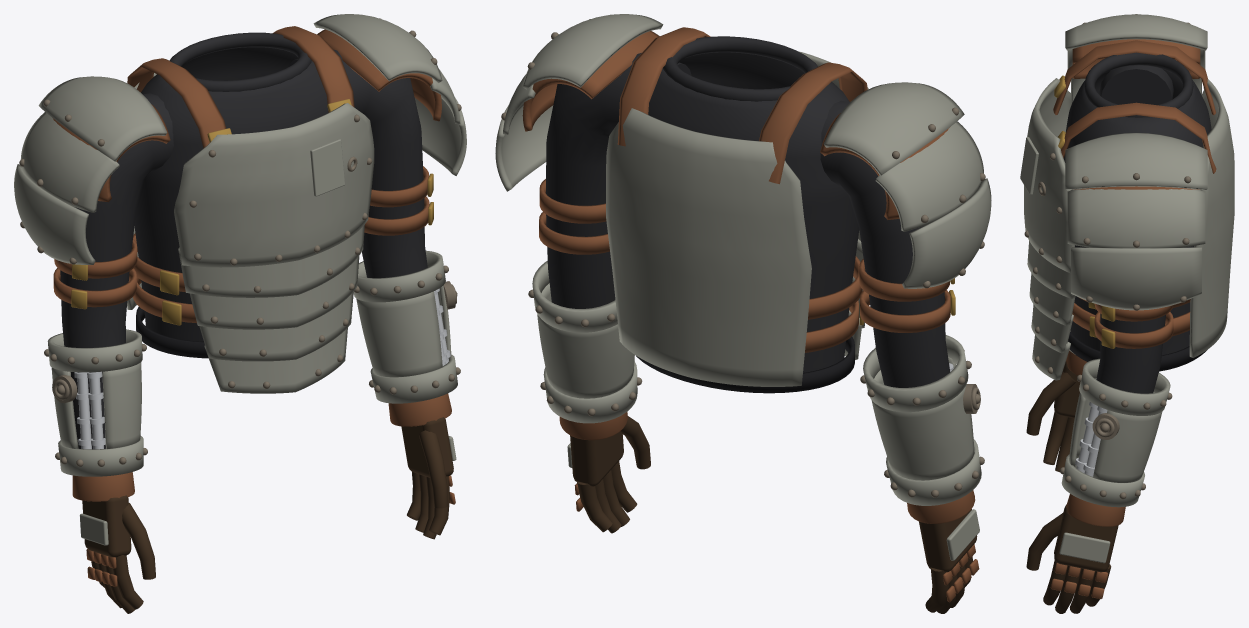
3 renders of one model, left to right at view 1: azimuth 30°, elevation 25°; view 2: azimuth 150°, elevation 25°; view 3: azimuth 270°, elevation 25°, orthographic. The views are drawn at different scales.
Parts seen in each view (by area): view 1: Chest_Plate_Upper, Undershirt_Torso, Sleeve_R, Sleeve_L, Pauldron_Lame_R1, Bracer_Shell_L, Abdomen_Lame_1, Pauldron_Lame_R2, Shoulder_Straps, Abdomen_Lame_2, Abdomen_Lame_3, Pauldron_Lame_R3 (+31 smaller); view 2: Back_Plate, Undershirt_Torso, Sleeve_L, Sleeve_R, Pauldron_Lame_R1, Shoulder_Straps, Pauldron_Lame_R2, Bracer_Shell_R, Bracer_Shell_L, Pauldron_Lame_R3, Pauldron_Lame_L1, Undershirt_Collar (+24 smaller); view 3: Pauldron_Lame_L2, Pauldron_Lame_L3, Back_Plate, Pauldron_Lame_L1, Chest_Plate_Upper, Undershirt_Torso, Shoulder_Straps, Bracer_Shell_L, Pauldron_Lame_R1, Sleeve_L, Sleeve_R, Glove_Fingers_L (+26 smaller).
Boxes of the visible parts, x1=… form: Chest_Plate_Upper: x1=174, y1=103, x2=374, y2=267; Undershirt_Torso: x1=134, y1=47, x2=328, y2=341; Sleeve_R: x1=60, y1=93, x2=173, y2=449; Sleeve_L: x1=289, y1=49, x2=427, y2=278; Pauldron_Lame_R1: x1=38, y1=76, x2=167, y2=161; Bracer_Shell_L: x1=356, y1=285, x2=451, y2=377; Abdomen_Lame_1: x1=178, y1=224, x2=364, y2=297; Pauldron_Lame_R2: x1=20, y1=112, x2=119, y2=212; Shoulder_Straps: x1=127, y1=26, x2=354, y2=148; Abdomen_Lame_2: x1=189, y1=256, x2=359, y2=329; Abdomen_Lame_3: x1=199, y1=292, x2=353, y2=361; Pauldron_Lame_R3: x1=14, y1=164, x2=95, y2=264; Back_Plate: x1=606, y1=108, x2=811, y2=386; Undershirt_Torso: x1=648, y1=52, x2=859, y2=372; Sleeve_L: x1=546, y1=53, x2=691, y2=308; Sleeve_R: x1=820, y1=100, x2=950, y2=387; Pauldron_Lame_R1: x1=823, y1=82, x2=964, y2=175; Shoulder_Straps: x1=617, y1=27, x2=867, y2=184; Pauldron_Lame_R2: x1=875, y1=121, x2=983, y2=231; Bracer_Shell_R: x1=871, y1=357, x2=974, y2=480; Bracer_Shell_L: x1=537, y1=283, x2=634, y2=398; Pauldron_Lame_R3: x1=902, y1=178, x2=991, y2=288; Pauldron_Lame_L1: x1=522, y1=14, x2=663, y2=89; Undershirt_Collar: x1=663, y1=36, x2=817, y2=101; Pauldron_Lame_L2: x1=1067, y1=189, x2=1205, y2=248; Pauldron_Lame_L3: x1=1071, y1=247, x2=1201, y2=310; Back_Plate: x1=1189, y1=79, x2=1234, y2=357; Pauldron_Lame_L1: x1=1065, y1=132, x2=1207, y2=190; Chest_Plate_Upper: x1=1024, y1=78, x2=1074, y2=273; Undershirt_Torso: x1=1063, y1=69, x2=1211, y2=355; Shoulder_Straps: x1=1053, y1=40, x2=1216, y2=173; Bracer_Shell_L: x1=1069, y1=378, x2=1162, y2=482; Pauldron_Lame_R1: x1=1065, y1=14, x2=1207, y2=50; Sleeve_L: x1=1096, y1=313, x2=1165, y2=393; Sleeve_R: x1=1099, y1=65, x2=1173, y2=105; Glove_Fingers_L: x1=1026, y1=513, x2=1111, y2=613.
Bounding box in the file's own units: 0.8852 × 1 × 0.4152.
